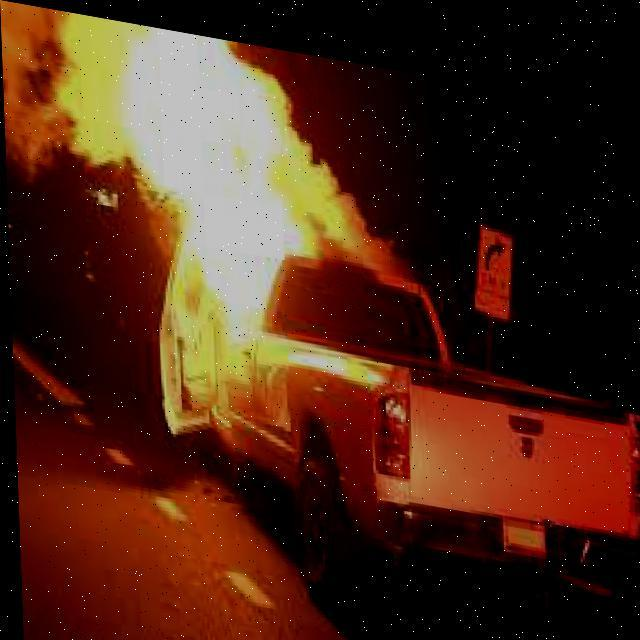Fire: (0, 0, 373, 341)
